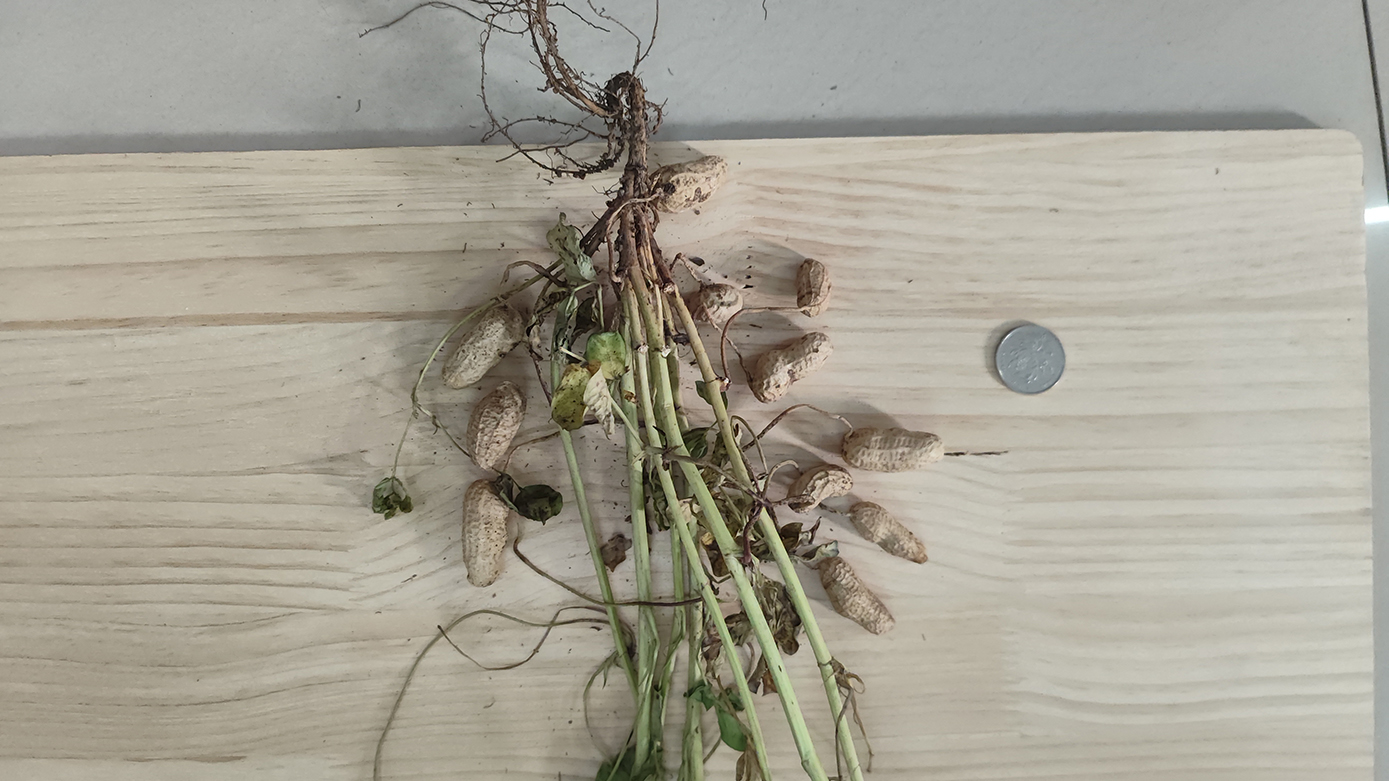h: (820, 557, 895, 639), (440, 305, 512, 389), (751, 333, 834, 402), (849, 500, 929, 567), (645, 154, 728, 217), (468, 380, 526, 468), (462, 480, 507, 585), (842, 427, 943, 472), (788, 465, 852, 513), (793, 258, 833, 317), (689, 283, 741, 327)
